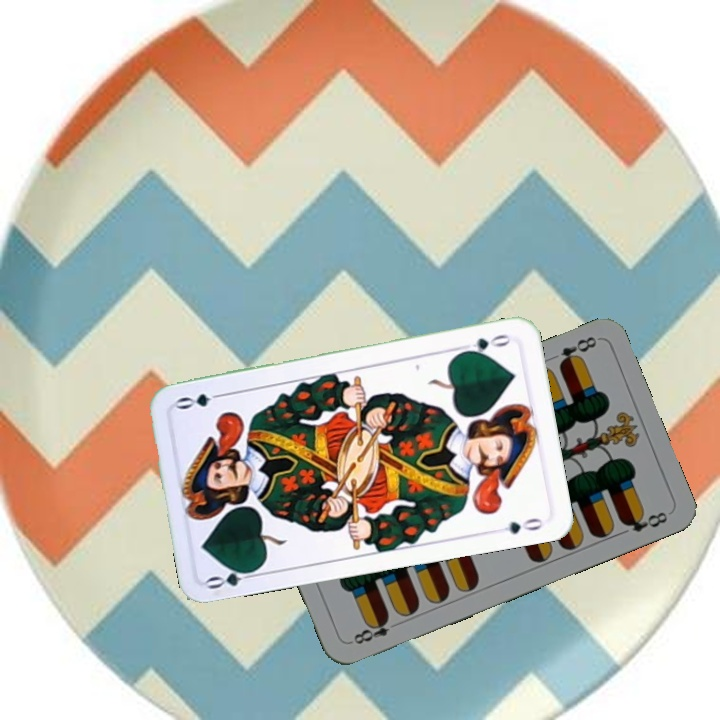E8: (346, 612, 403, 647), (554, 332, 600, 371)
GO: (203, 563, 262, 592), (457, 330, 513, 357)
